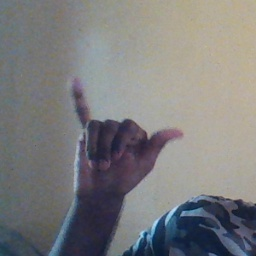J: (65, 76, 187, 195)
